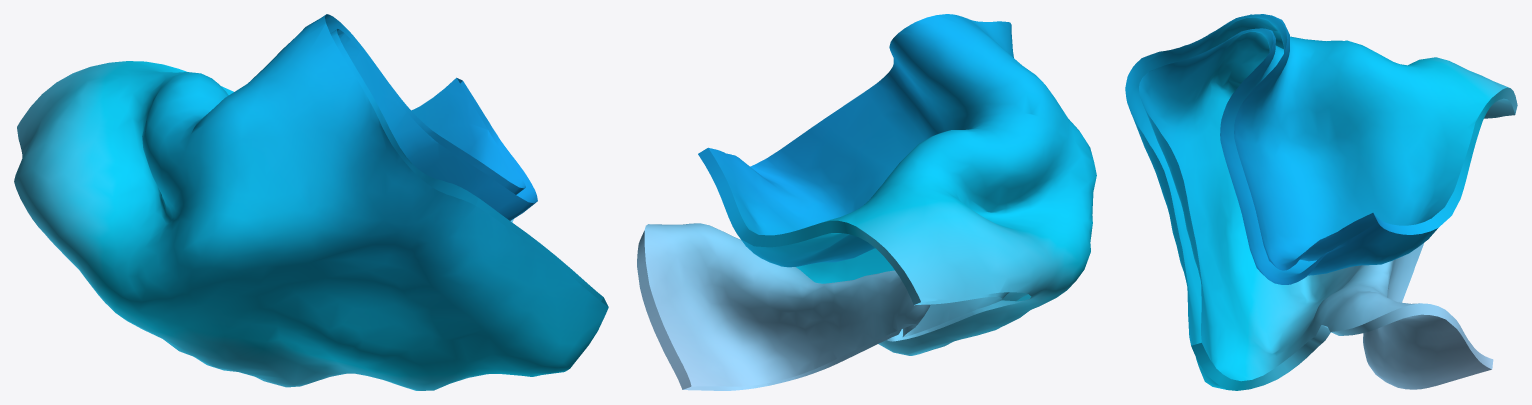
The model's file is s1_hand.fbx.
3 views of the same model, side by side, from view 1: azimuth 30°, elevation 25°; view 2: azimuth 150°, elevation 25°; view 3: azimuth 270°, elevation 25° (orthographic). The views are drawn at different scales.
Visible parts, largest first — view 1: s1_hand; view 2: s1_hand; view 3: s1_hand.
Part boxes in pixels (x1,y1,x2,y2): s1_hand: (14, 14, 608, 390); s1_hand: (637, 14, 1096, 390); s1_hand: (1125, 14, 1517, 390).
Size of the model in its own units: 256 by 218 by 239.
